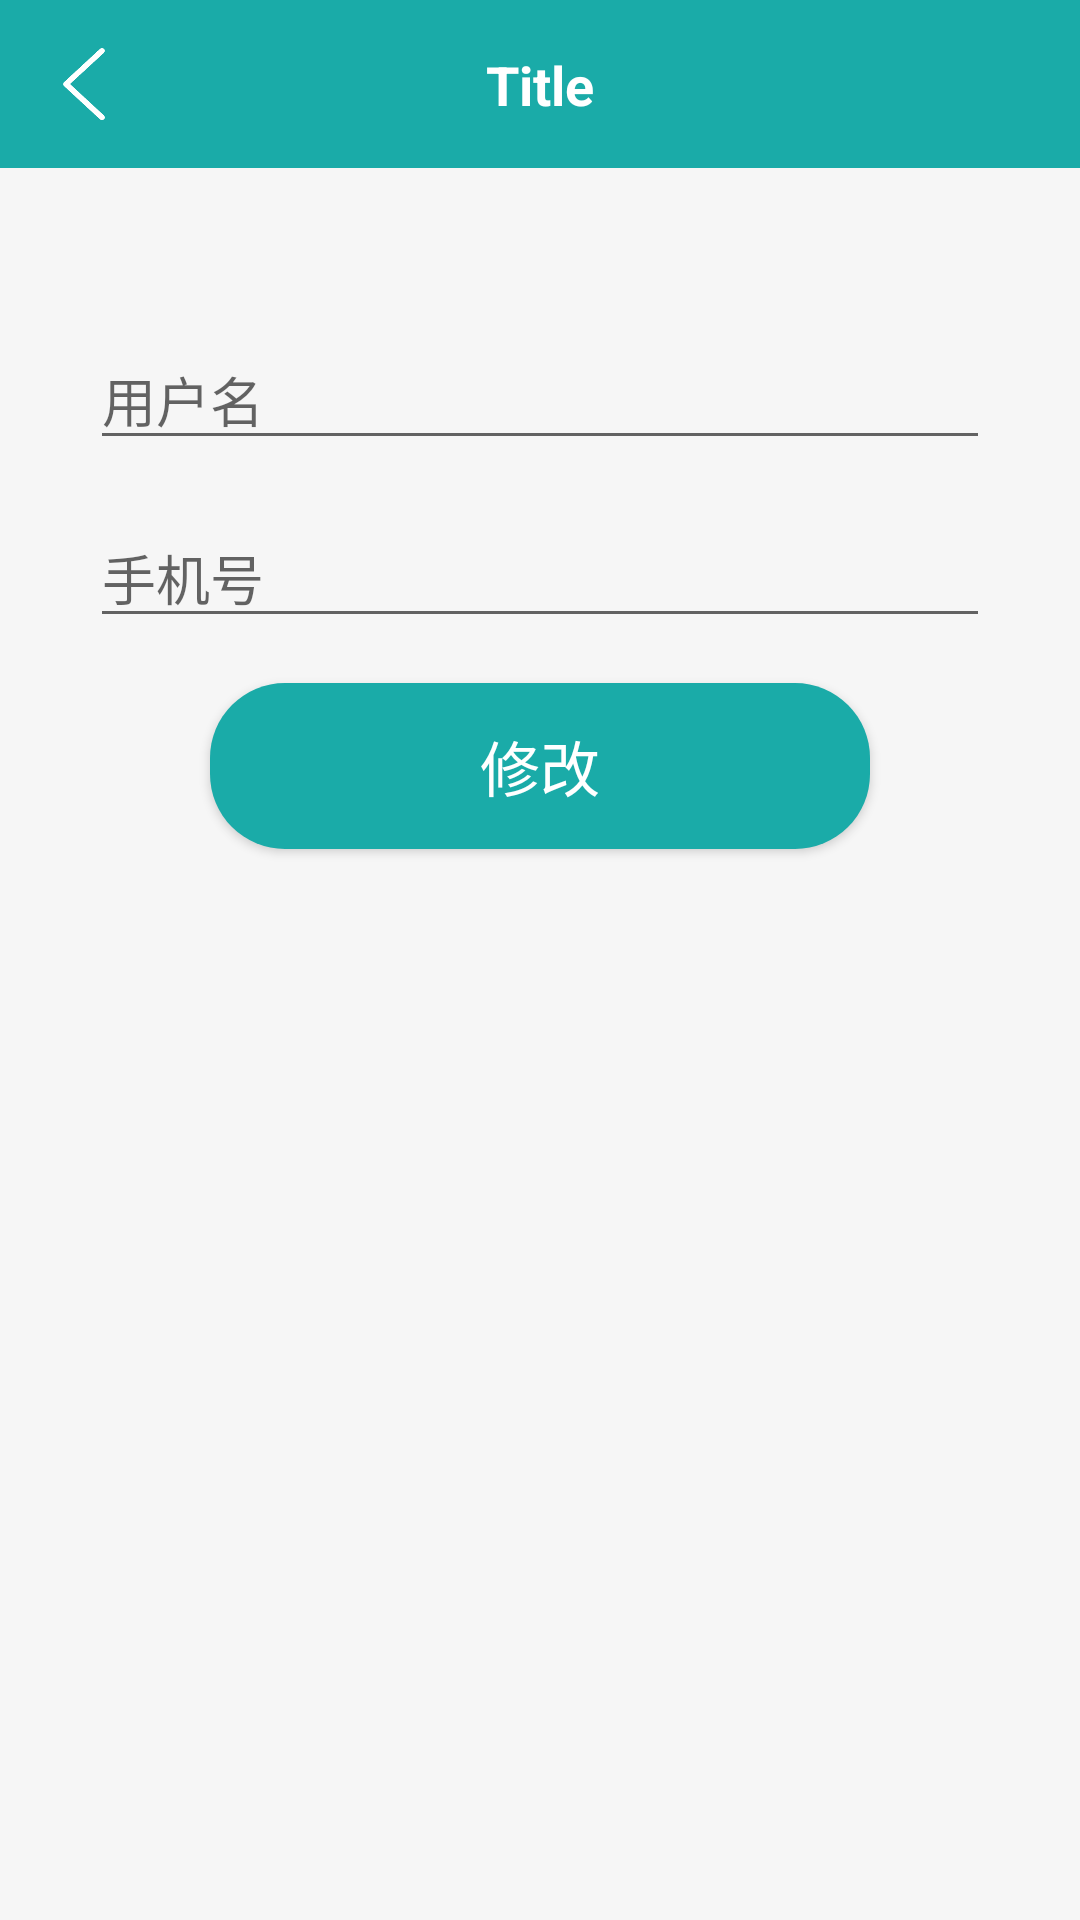

Named icons in this screenshot (1080 × 1920) and their centers, (x,y):
back: (84,84)
